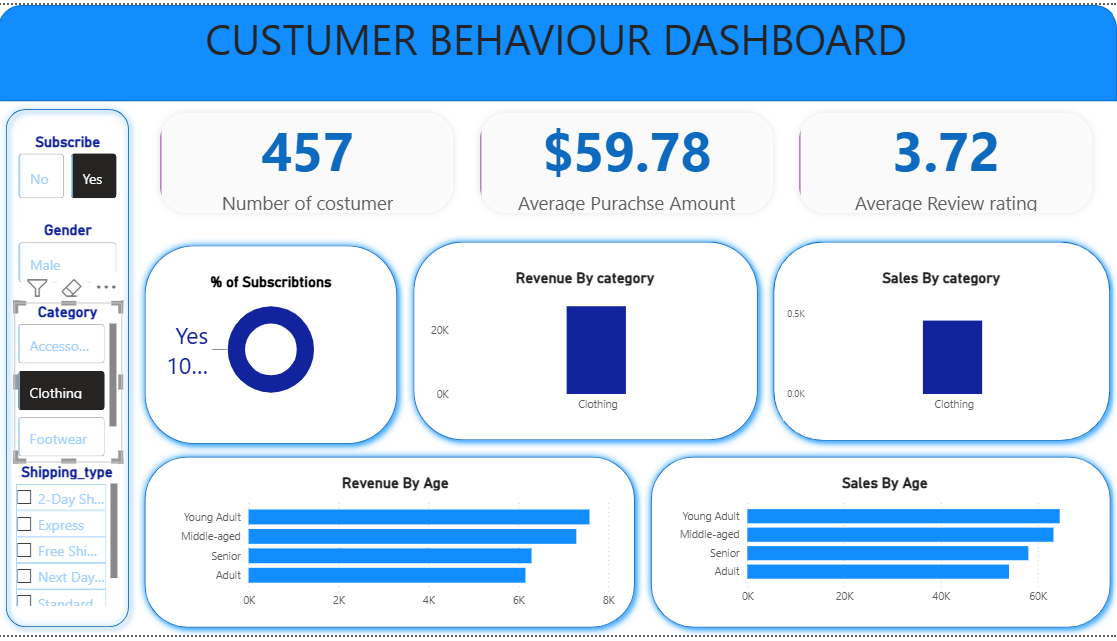

The dashboard page shown, as its layout file describes it:
{"tool":"powerbi","page":{"name":"Page 1","canvas":[1280,720],"ordinal":0},"visuals":[{"type":"cardVisual","fields":{"Data":["customer_behavior customer_shopping_behavior_cleaned.Number of costumer","customer_behavior customer_shopping_behavior_cleaned.Average Purachse Amount","customer_behavior customer_shopping_behavior_cleaned.Average Review rating"]},"box":[157.1,95.7,1122.9,170],"z":0},{"type":"shape","box":[0,0,1280,110],"z":1000},{"type":"textbox","box":[65,0,1065,110],"z":2000},{"type":"shape","box":[158.3,265,306.7,245],"z":3000},{"type":"donutChart","title":"% of Subscribtions","fields":{"Category":["customer_behavior customer_shopping_behavior_cleaned.subscription_status"],"Y":["CountNonNull(customer_behavior customer_shopping_behavior_cleaned.customer_id)"]},"box":[178.6,305.7,267.1,157.1],"z":4000},{"type":"shape","box":[465,261.7,411.7,245],"z":5000},{"type":"shape","box":[877.1,261.4,402.9,245.7],"z":6000},{"type":"clusteredColumnChart","title":"Revenue By category","fields":{"Y":["Sum(customer_behavior customer_shopping_behavior_cleaned.purchase_amount)"],"Category":["customer_behavior customer_shopping_behavior_cleaned.category"]},"box":[490,301.7,361.7,173.3],"z":7000},{"type":"clusteredColumnChart","title":"Sales By category","fields":{"Y":["CountNonNull(customer_behavior customer_shopping_behavior_cleaned.customer_id)"],"Category":["customer_behavior customer_shopping_behavior_cleaned.category"]},"box":[896.7,301.7,361.7,173.3],"z":8000},{"type":"shape","box":[0,110,158.6,610],"z":9000},{"type":"advancedSlicerVisual","title":"Subscribe","fields":{"Values":["customer_behavior customer_shopping_behavior_cleaned.subscription_status"]},"box":[19.2,146.2,122.3,80.8],"z":10000},{"type":"advancedSlicerVisual","title":"Gender","fields":{"Values":["customer_behavior customer_shopping_behavior_cleaned.gender"]},"box":[18.6,247.1,122.9,75.7],"z":11000},{"type":"advancedSlicerVisual","title":"Category","fields":{"Values":["customer_behavior customer_shopping_behavior_cleaned.category"]},"box":[18.9,340,122.2,182.2],"z":12000},{"type":"listSlicer","title":"Shipping_type","fields":{"Values":["customer_behavior customer_shopping_behavior_cleaned.shipping_type"]},"box":[15,522.5,126.2,170],"z":13000},{"type":"shape","box":[158.3,506.7,578.3,213.3],"z":14000},{"type":"shape","box":[736.7,506.7,543.3,213.3],"z":15000},{"type":"clusteredBarChart","title":"Revenue By Age","fields":{"Y":["Sum(customer_behavior customer_shopping_behavior_cleaned.purchase_amount)"],"Category":["customer_behavior customer_shopping_behavior_cleaned.age_group"]},"box":[198.9,535.6,511.1,163.3],"z":16000},{"type":"clusteredBarChart","title":"Sales By Age","fields":{"Y":["Sum(customer_behavior customer_shopping_behavior_cleaned.customer_id)"],"Category":["customer_behavior customer_shopping_behavior_cleaned.age_group"]},"box":[768.3,535,490,158.3],"z":17000}]}

Visuals, with their boxes in screenshot pixels (x1, y1, x2, y2), scaled from the page's 1280x720 canvas onto the 1117x641 screenshot:
cardVisual - customer_behavior customer_shopping_behavior_cleaned.Number of costumer x customer_behavior customer_shopping_behavior_cleaned.Average Purachse Amount: detection(137, 85, 1116, 237)
shape: detection(0, 0, 1116, 98)
textbox: detection(57, 0, 986, 98)
shape: detection(138, 236, 406, 454)
"% of Subscribtions" donutChart: detection(156, 272, 389, 412)
shape: detection(406, 233, 765, 451)
shape: detection(765, 233, 1116, 451)
"Revenue By category" clusteredColumnChart: detection(428, 269, 743, 423)
"Sales By category" clusteredColumnChart: detection(783, 269, 1098, 423)
shape: detection(0, 98, 138, 640)
"Subscribe" advancedSlicerVisual: detection(17, 130, 123, 202)
"Gender" advancedSlicerVisual: detection(16, 220, 123, 287)
"Category" advancedSlicerVisual: detection(16, 303, 123, 465)
"Shipping_type" listSlicer: detection(13, 465, 123, 617)
shape: detection(138, 451, 643, 640)
shape: detection(643, 451, 1116, 640)
"Revenue By Age" clusteredBarChart: detection(174, 477, 620, 622)
"Sales By Age" clusteredBarChart: detection(670, 476, 1098, 617)
